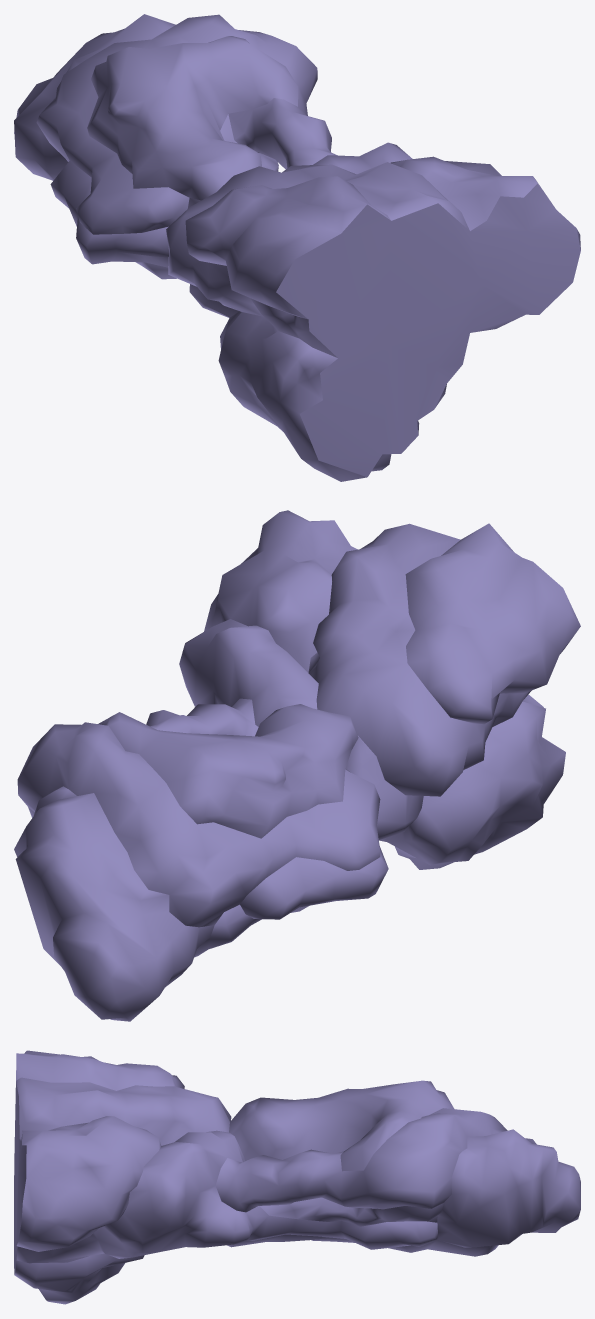
The model's file is Rock_0013.FBX.
3 views of the same model, one above another, from view 1: azimuth 30°, elevation 25°; view 2: azimuth 150°, elevation 25°; view 3: azimuth 270°, elevation 25° (orthographic). The views are drawn at different scales.
Visible parts, largest first — view 1: Rock_0013_LOD0; view 2: Rock_0013_LOD0; view 3: Rock_0013_LOD0.
Boxes of the visible parts, bbox=[...] form: Rock_0013_LOD0: bbox=[14, 14, 580, 481]; Rock_0013_LOD0: bbox=[14, 510, 580, 1021]; Rock_0013_LOD0: bbox=[14, 1050, 580, 1304].
Bounding box in the file's own units: 187 × 352 × 165.
